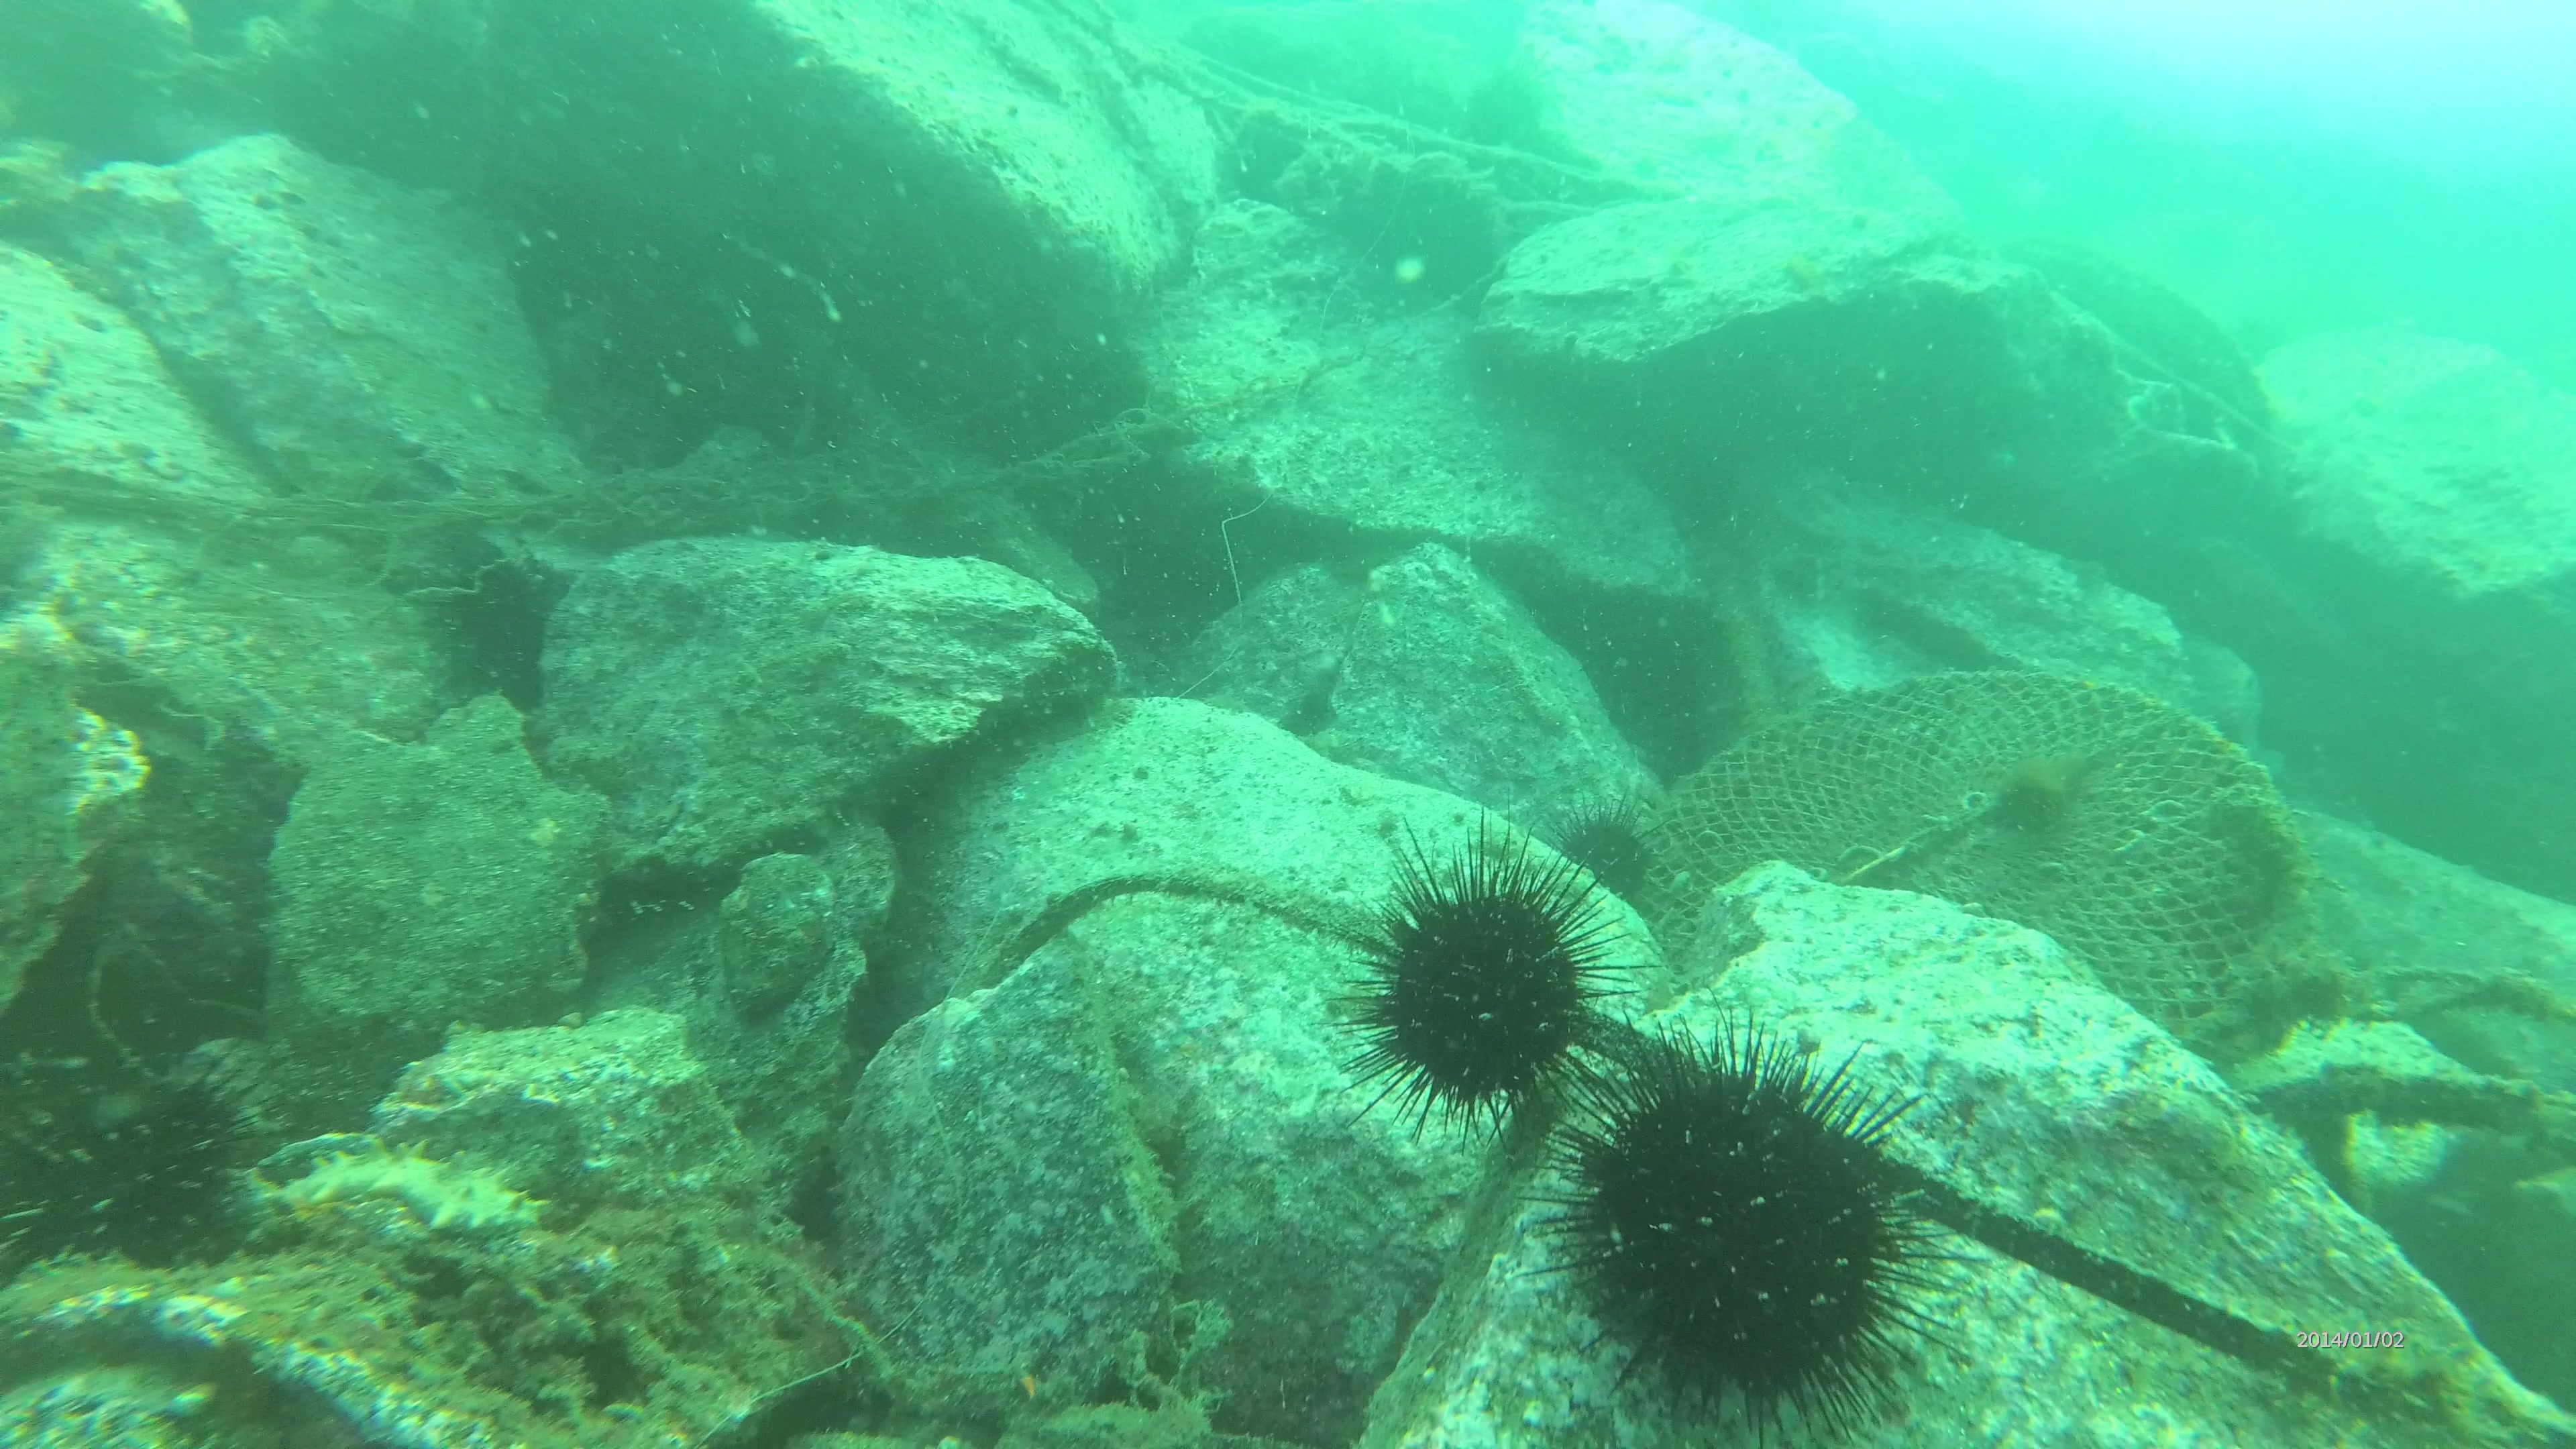echinus: (1525, 1026, 1969, 1449), (1327, 819, 1661, 1138), (0, 1037, 276, 1292), (1539, 775, 1691, 936)
holothurian: (287, 1131, 545, 1256)
